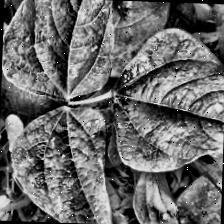Bean Rust: (106, 26, 224, 175), (9, 106, 129, 224), (0, 0, 112, 98), (129, 174, 185, 224)
